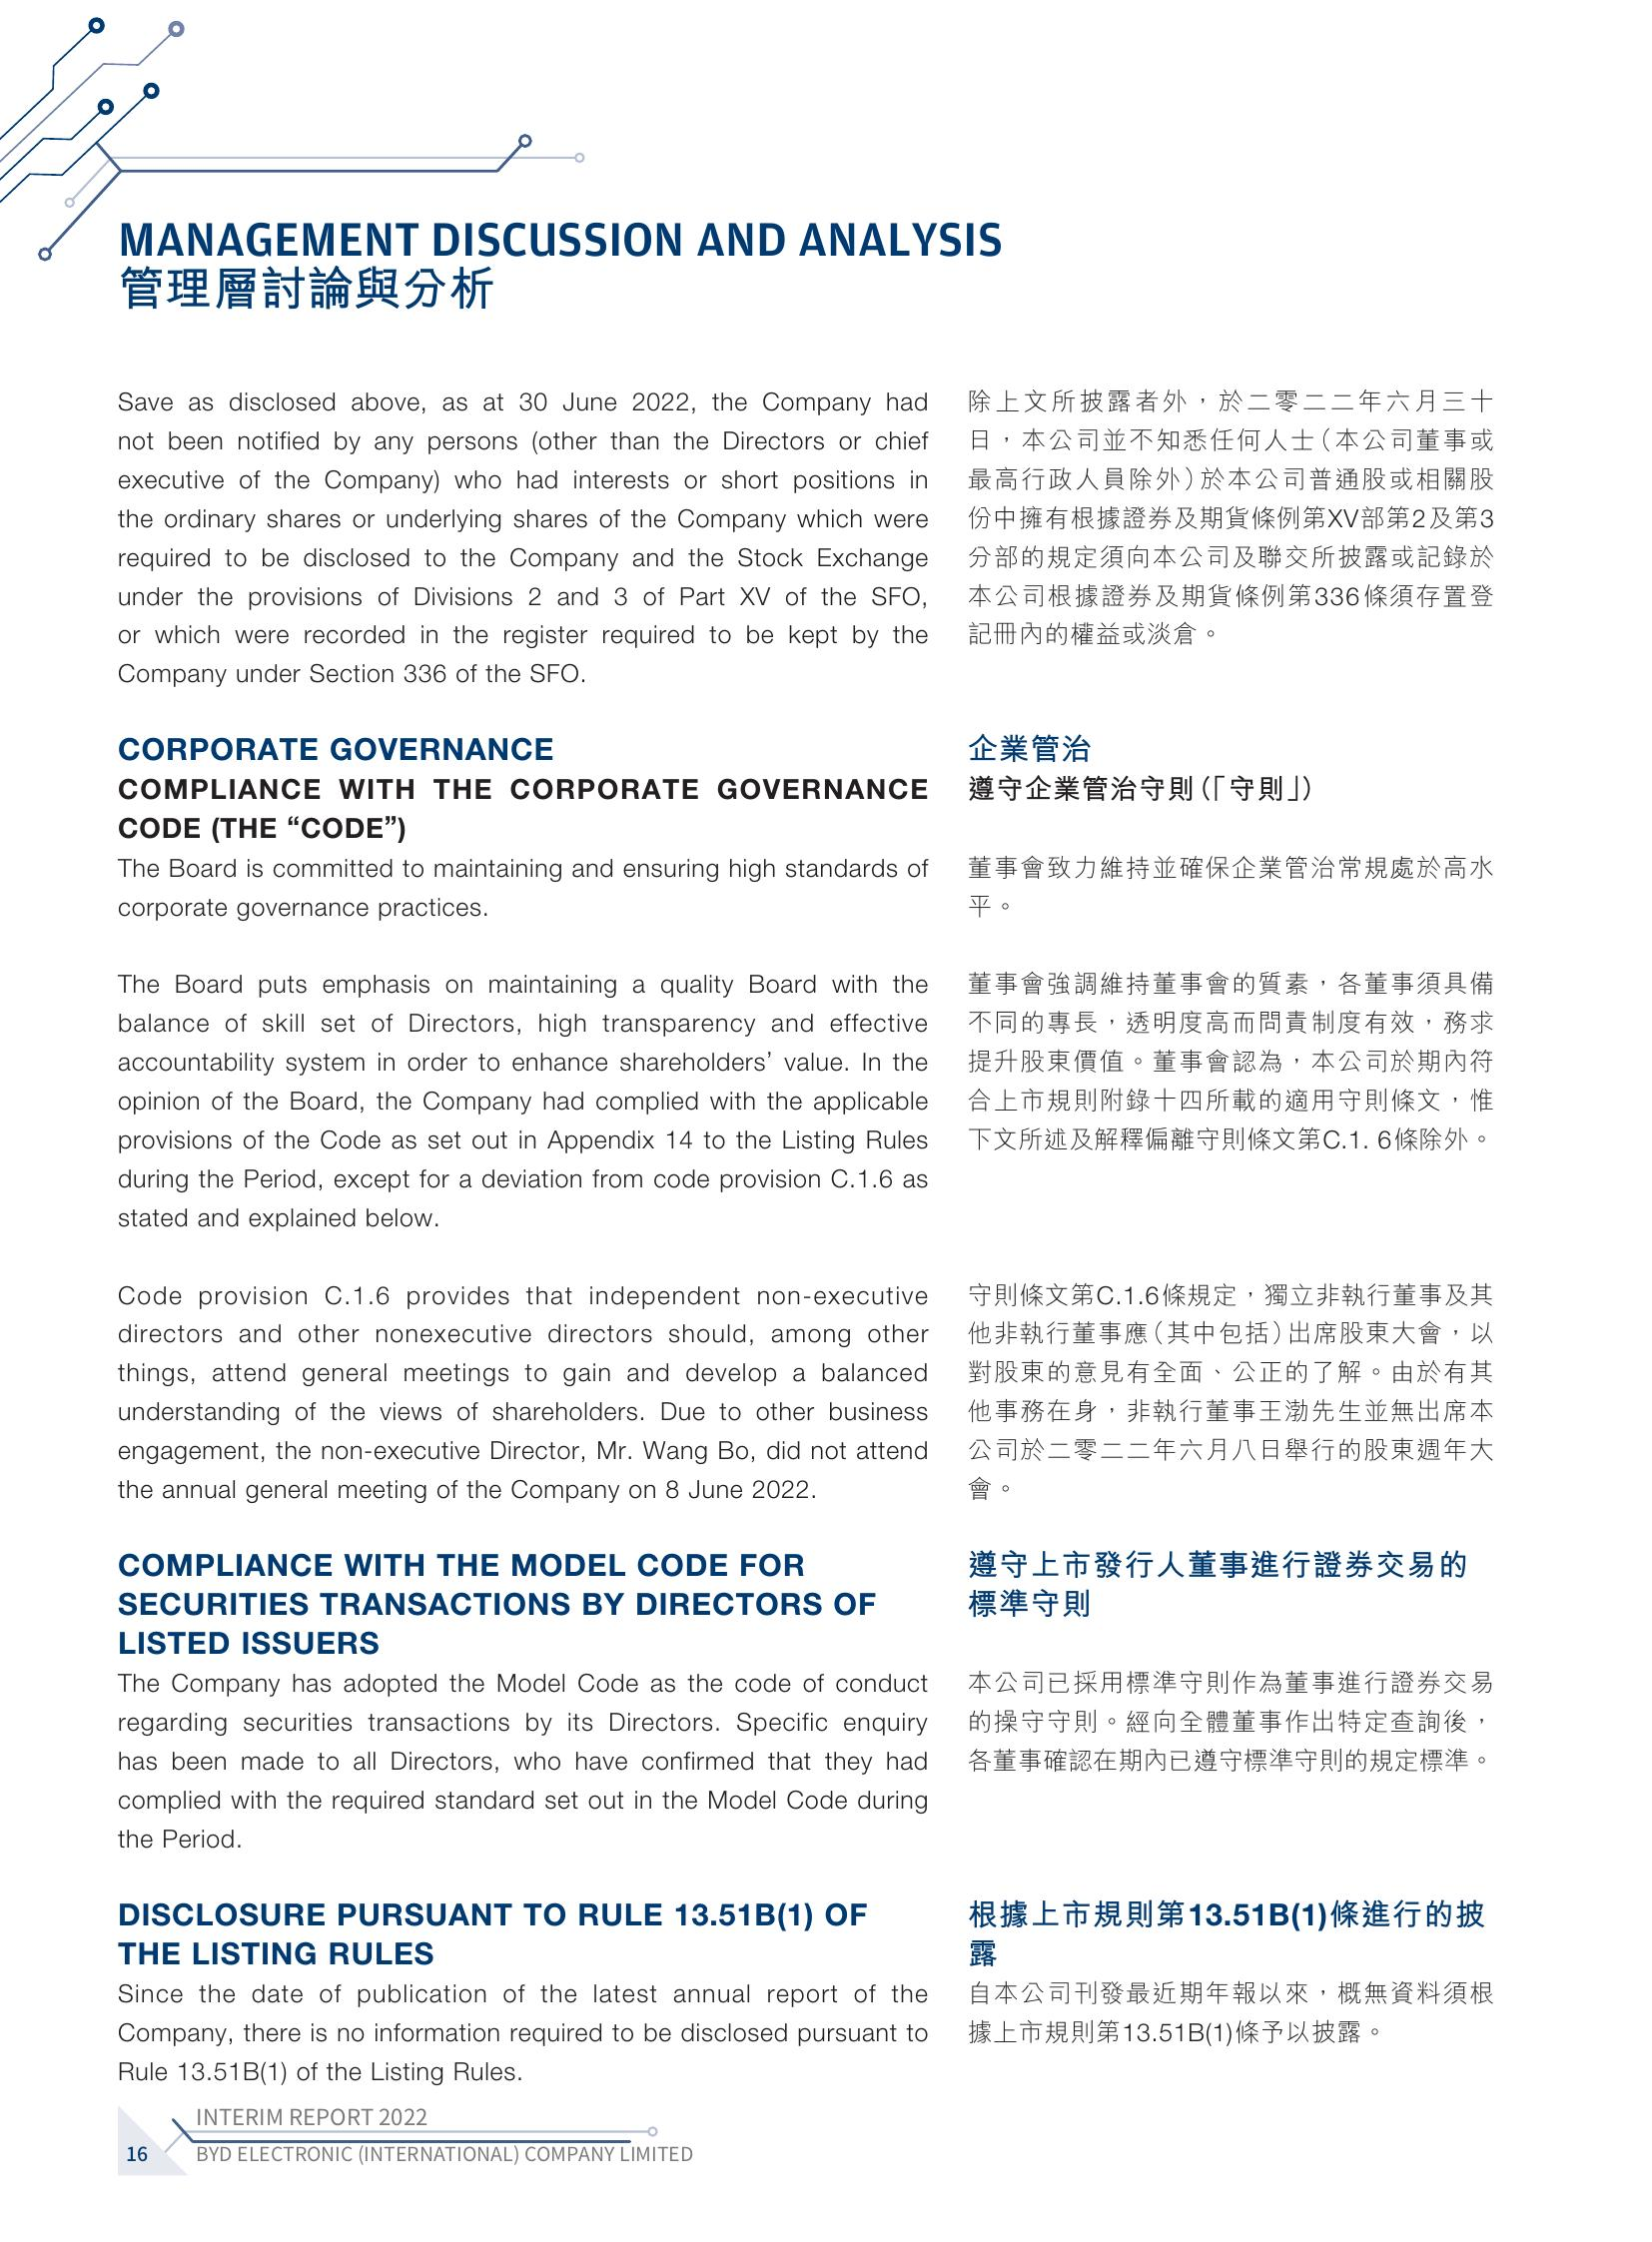Footer: (0, 2089, 1652, 2242)
Header: (0, 0, 1652, 193)
